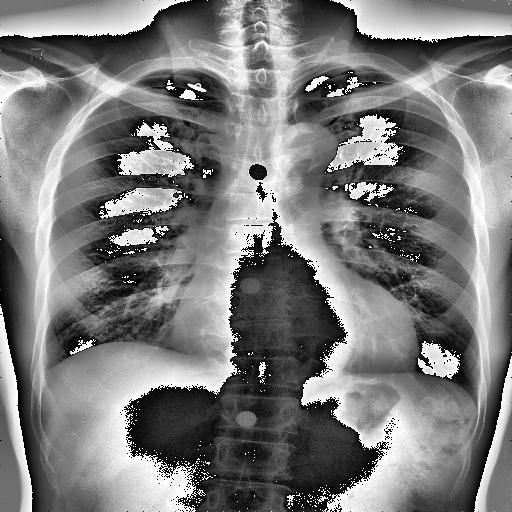0- Aortic enlargement: (268, 120, 340, 188), (276, 120, 338, 174), (280, 121, 338, 172)
3- Cardiomegaly: (169, 302, 422, 384), (169, 316, 421, 372)
